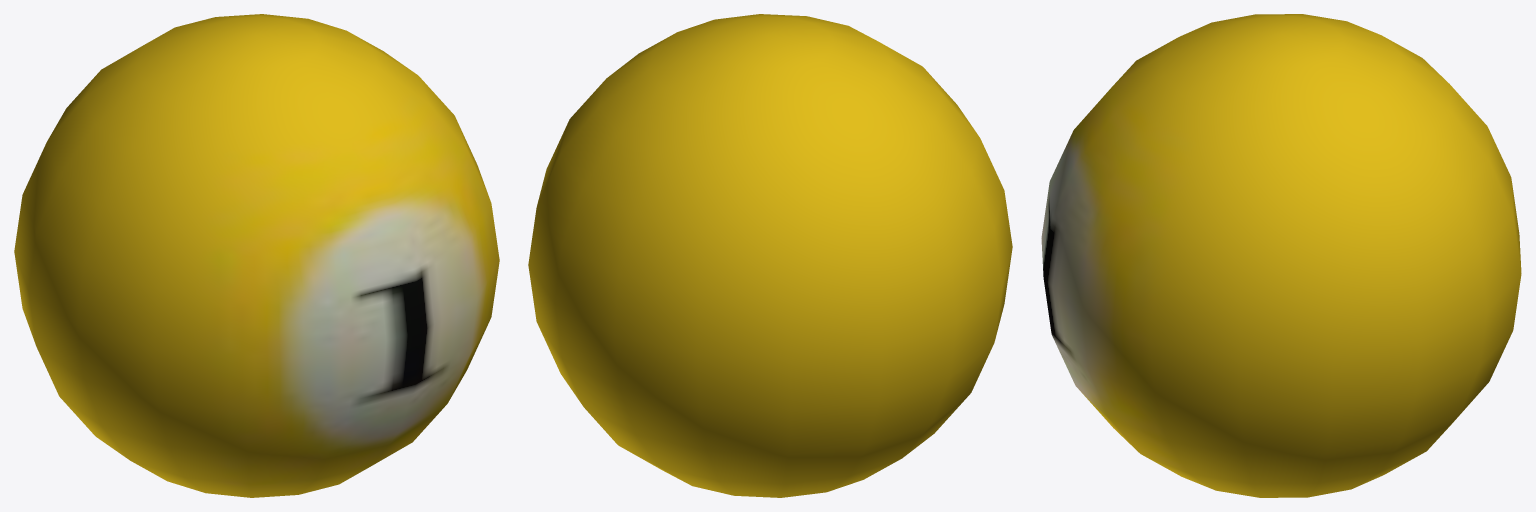
3 renders of one model, left to right at view 1: azimuth 30°, elevation 25°; view 2: azimuth 150°, elevation 25°; view 3: azimuth 270°, elevation 25°, orthographic.
Visible parts, largest first — view 1: bi_a_01; view 2: bi_a_01; view 3: bi_a_01.
Boxes of the visible parts, x1=… form: bi_a_01: x1=14, y1=14, x2=499, y2=497; bi_a_01: x1=528, y1=14, x2=1012, y2=497; bi_a_01: x1=1041, y1=14, x2=1521, y2=497.
Size of the model in its own units: 12.94 by 13.13 by 12.94.
